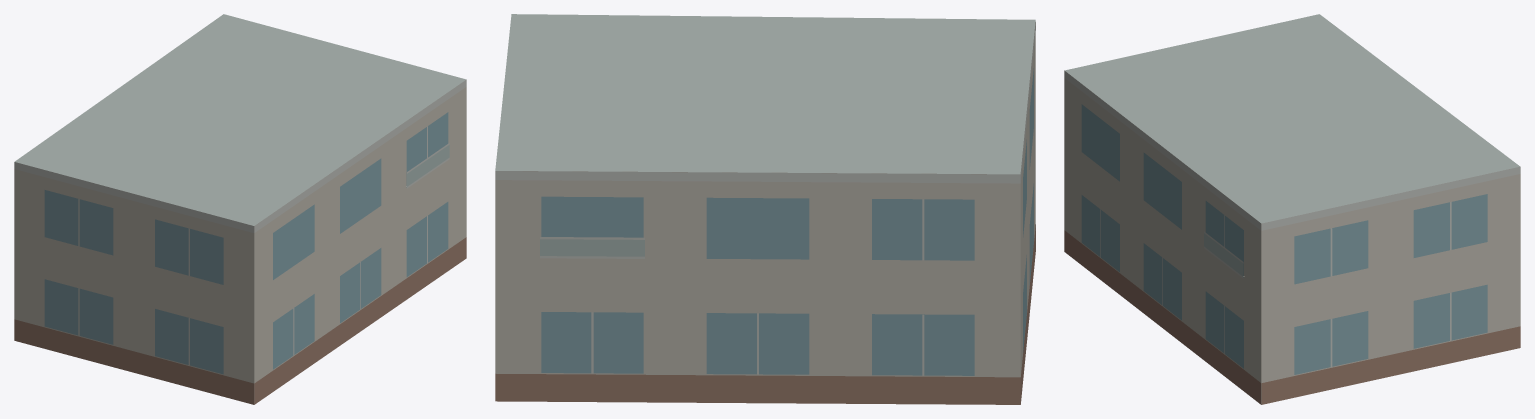
File: survey-upis-32659198.glb
3 views of the same model, side by side, from view 1: azimuth 30°, elevation 25°; view 2: azimuth 150°, elevation 25°; view 3: azimuth 270°, elevation 25° (orthographic). The views are drawn at different scales.
Parts seen in each view (by area): view 1: survey-upis-32659198.tmp; view 2: survey-upis-32659198.tmp; view 3: survey-upis-32659198.tmp.
Part boxes in pixels (box(x1,y1,x2,y2)): survey-upis-32659198.tmp: box(14, 14, 466, 404); survey-upis-32659198.tmp: box(495, 14, 1035, 404); survey-upis-32659198.tmp: box(1064, 14, 1520, 404).
Bounding box in the file's own units: 15.13 × 6.1 × 13.92.
